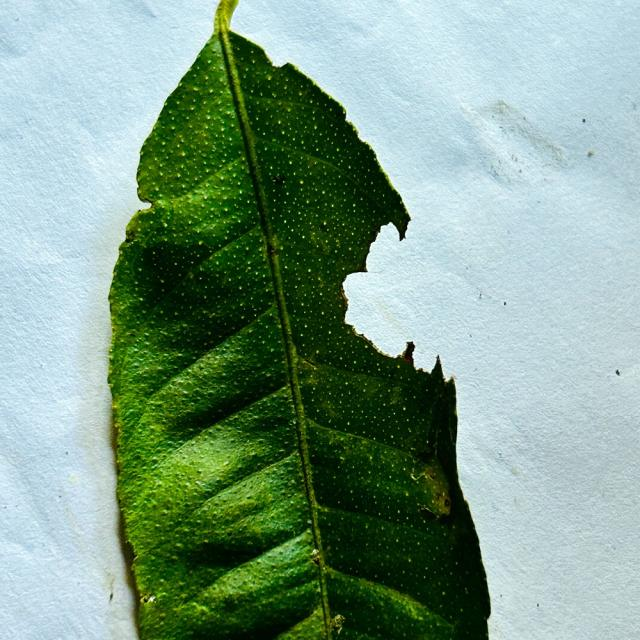Deficiency Leaf: (343, 221, 490, 381)
Lemon: (108, 0, 489, 639)
